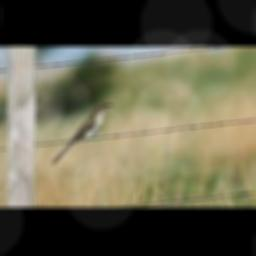Cuckoo: (52, 103, 116, 165)
